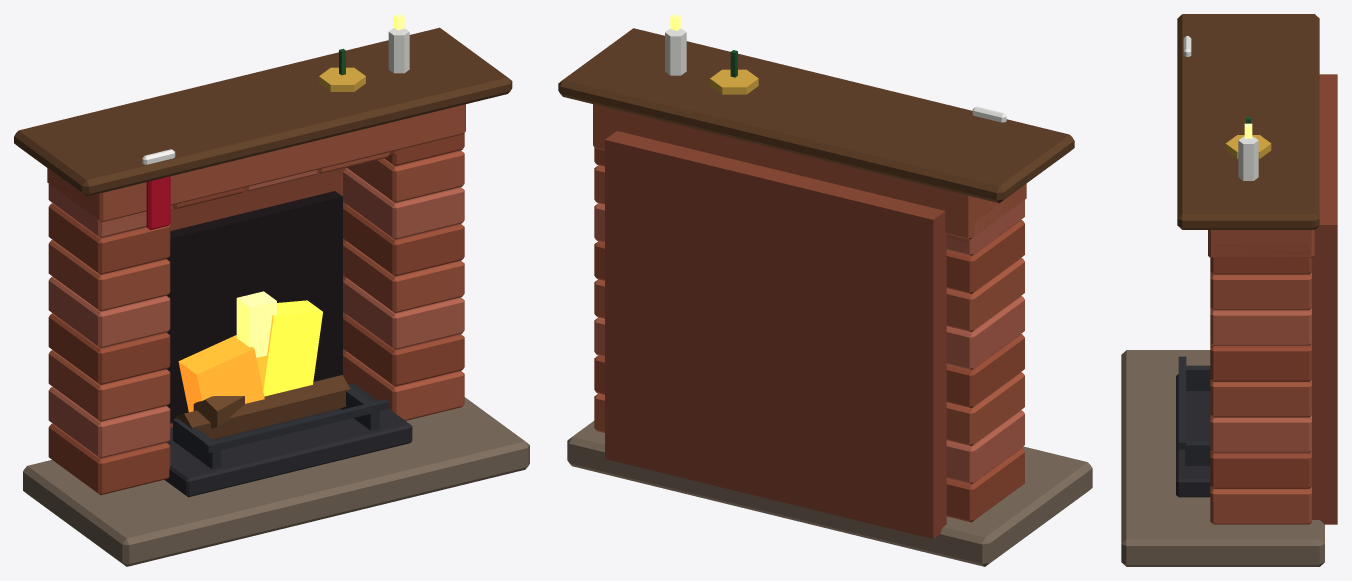
File: fireplace.glb
The picture shows the model from 3 angles, left to right: view 1: azimuth 30°, elevation 25°; view 2: azimuth 150°, elevation 25°; view 3: azimuth 270°, elevation 25°; orthographic projection. The views are drawn at different scales.
Parts seen in each view (by area): view 1: fireplace; view 2: fireplace; view 3: fireplace.
Boxes of the visible parts, x1=… form: fireplace: x1=14, y1=14, x2=529, y2=566; fireplace: x1=558, y1=14, x2=1092, y2=566; fireplace: x1=1121, y1=14, x2=1337, y2=566.
Size of the model in its own units: 1.9 by 1.78 by 0.85.
